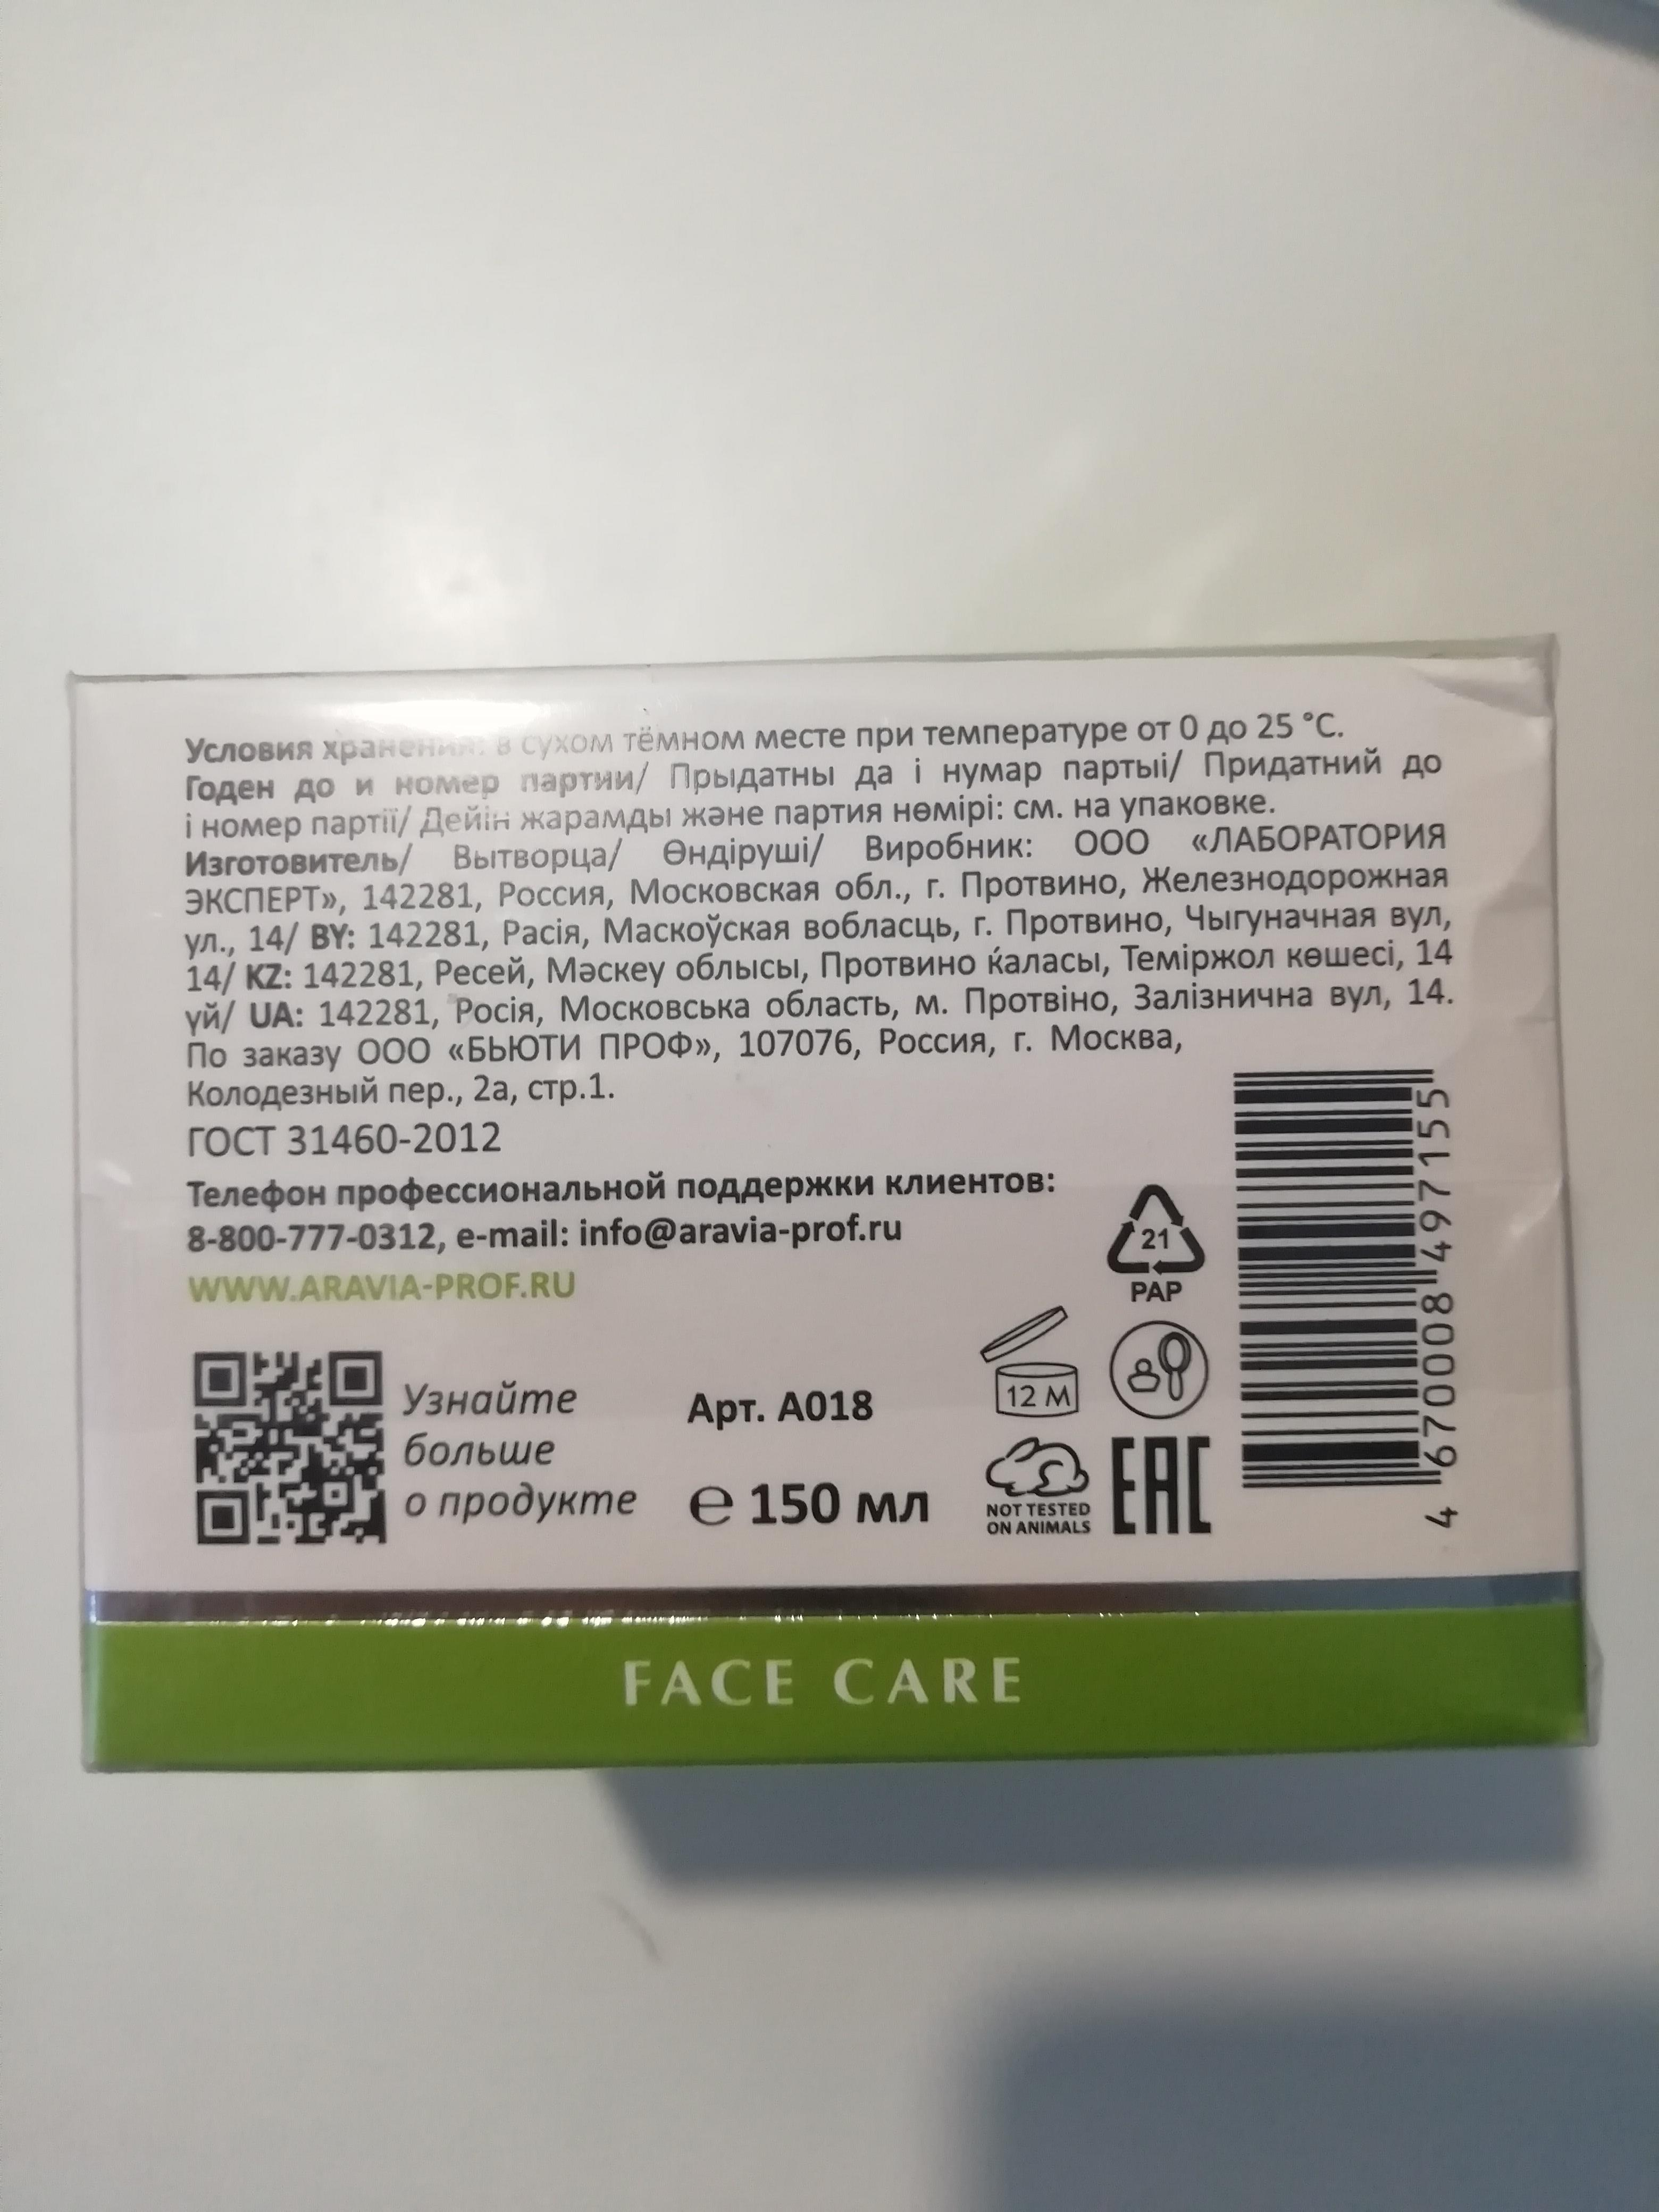qrcode: (195, 1348, 392, 1548)
